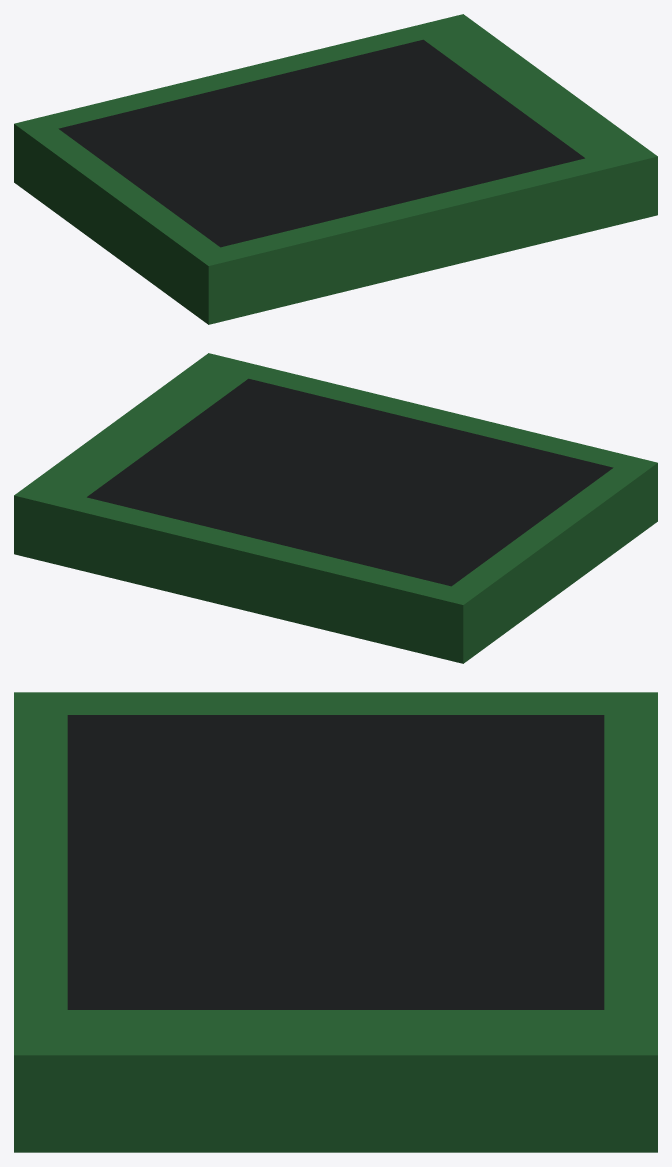
Rendered from scooter_floorboard.glb.
The picture shows the model from 3 angles, top to bottom: view 1: azimuth 30°, elevation 25°; view 2: azimuth 150°, elevation 25°; view 3: azimuth 270°, elevation 25°; orthographic projection. The views are drawn at different scales.
Visible parts, largest first — view 1: body:compound; view 2: body:compound; view 3: body:compound.
Boxes of the visible parts, x1,y1,x2,y2 form: body:compound: (14,14,657,324); body:compound: (14,353,657,663); body:compound: (14,692,657,1152).
Size of the model in its own units: 0.5 by 0.0625 by 0.375.
